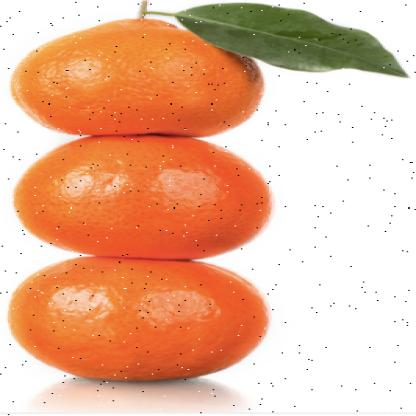fresh: (16, 15, 282, 383)
